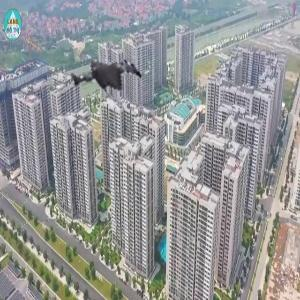drone: (46, 11, 154, 119)
